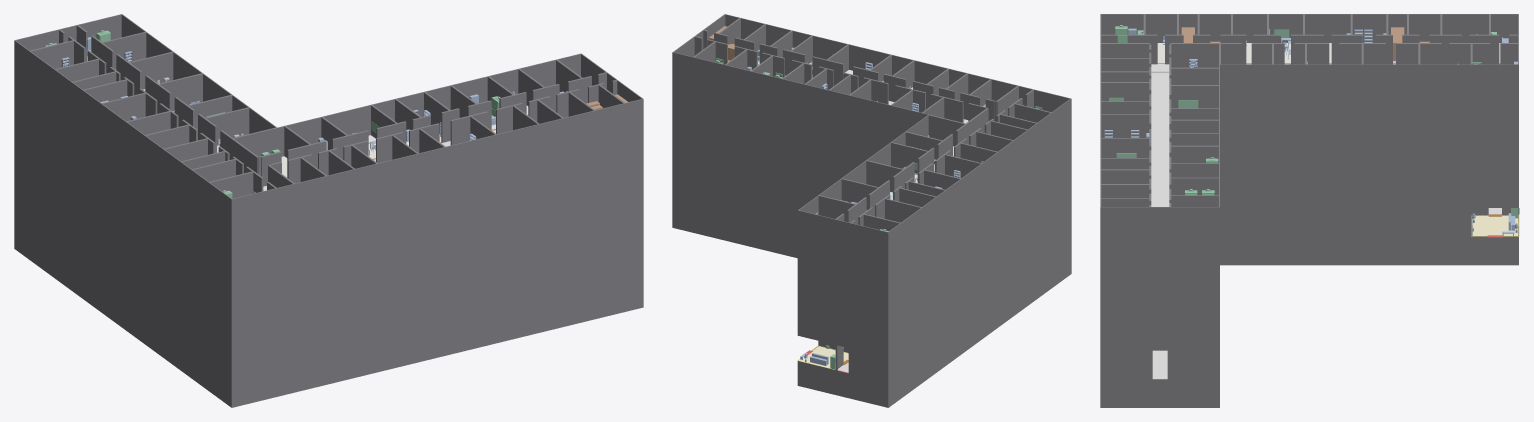
3 views of the same model, side by side, from view 1: azimuth 30°, elevation 25°; view 2: azimuth 150°, elevation 25°; view 3: azimuth 270°, elevation 25° (orthographic). The views are drawn at different scales.
Visible parts, largest first — view 1: walls:proc-campus-test-013-F5-S001, walls:proc-campus-test-013-F5-S002, walls:proc-campus-test-013-F5-S014, walls:proc-campus-test-013-F0-S038, walls:proc-campus-test-013-F5-S026, walls:proc-campus-test-013-F5-S027, walls:proc-campus-test-013-F5-S024, walls:proc-campus-test-013-F-1-S014, walls:proc-campus-test-013-F1-S014, walls:proc-campus-test-013-F2-S014, walls:proc-campus-test-013-F3-S014, walls:proc-campus-test-013-F4-S014 (+135 smaller); view 2: walls:proc-campus-test-013-F5-S001, walls:proc-campus-test-013-F5-S002, walls:proc-campus-test-013-F5-S034, walls:proc-campus-test-013-F5-S015, walls:proc-campus-test-013-F5-S003, walls:proc-campus-test-013-F5-S040, walls:proc-campus-test-013-F5-S038, walls:proc-campus-test-013-F0-S037, walls:proc-campus-test-013-F5-S004, walls:proc-campus-test-013-F5-S008, walls:proc-campus-test-013-F0-S003, walls:proc-campus-test-013-F3-S003 (+134 smaller); view 3: walls:proc-campus-test-013-F5-S001, walls:proc-campus-test-013-F5-S017, walls:proc-campus-test-013-F5-S018, proc-campus-test-013-F5-S002, walls:proc-campus-test-013-F5-S016, walls:proc-campus-test-013-F5-S020, walls:proc-campus-test-013-F5-S015, walls:proc-campus-test-013-F5-S041, walls:proc-campus-test-013-F5-S031, walls:proc-campus-test-013-F-1-S017, walls:proc-campus-test-013-F2-S017, walls:proc-campus-test-013-F-1-S018 (+82 smaller).
Boxes of the visible parts, x1,y1,x2,y2 form: walls:proc-campus-test-013-F5-S001: [59, 25, 294, 217]; walls:proc-campus-test-013-F5-S002: [261, 72, 616, 186]; walls:proc-campus-test-013-F5-S014: [208, 171, 276, 228]; walls:proc-campus-test-013-F0-S038: [191, 319, 276, 377]; walls:proc-campus-test-013-F5-S026: [420, 116, 496, 176]; walls:proc-campus-test-013-F5-S027: [471, 105, 539, 164]; walls:proc-campus-test-013-F5-S024: [352, 135, 418, 193]; walls:proc-campus-test-013-F-1-S014: [208, 361, 276, 407]; walls:proc-campus-test-013-F1-S014: [208, 302, 276, 348]; walls:proc-campus-test-013-F2-S014: [208, 272, 276, 318]; walls:proc-campus-test-013-F3-S014: [208, 242, 276, 288]; walls:proc-campus-test-013-F4-S014: [208, 212, 276, 258]; walls:proc-campus-test-013-F5-S001: [835, 85, 1033, 248]; walls:proc-campus-test-013-F5-S002: [694, 30, 994, 122]; walls:proc-campus-test-013-F5-S034: [849, 79, 912, 130]; walls:proc-campus-test-013-F5-S015: [797, 195, 855, 244]; walls:proc-campus-test-013-F5-S003: [850, 214, 900, 257]; walls:proc-campus-test-013-F5-S040: [693, 41, 746, 89]; walls:proc-campus-test-013-F5-S038: [751, 55, 803, 103]; walls:proc-campus-test-013-F0-S037: [961, 266, 1013, 328]; walls:proc-campus-test-013-F5-S004: [864, 198, 922, 247]; walls:proc-campus-test-013-F5-S008: [924, 154, 982, 203]; walls:proc-campus-test-013-F0-S003: [850, 349, 900, 382]; walls:proc-campus-test-013-F3-S003: [850, 273, 900, 307]; walls:proc-campus-test-013-F5-S001: [1100, 35, 1518, 64]; walls:proc-campus-test-013-F5-S017: [1362, 43, 1419, 93]; walls:proc-campus-test-013-F5-S018: [1306, 43, 1362, 93]; proc-campus-test-013-F5-S002: [1151, 72, 1169, 206]; walls:proc-campus-test-013-F5-S016: [1419, 43, 1471, 93]; walls:proc-campus-test-013-F5-S020: [1220, 43, 1272, 93]; walls:proc-campus-test-013-F5-S015: [1471, 43, 1518, 93]; walls:proc-campus-test-013-F5-S041: [1170, 195, 1219, 235]; walls:proc-campus-test-013-F5-S031: [1100, 198, 1150, 235]; walls:proc-campus-test-013-F-1-S017: [1362, 236, 1419, 265]; walls:proc-campus-test-013-F2-S017: [1362, 150, 1419, 179]; walls:proc-campus-test-013-F-1-S018: [1306, 236, 1362, 265].
Bounding box in the file's own units: 55.1 × 26.6 × 50.4.
